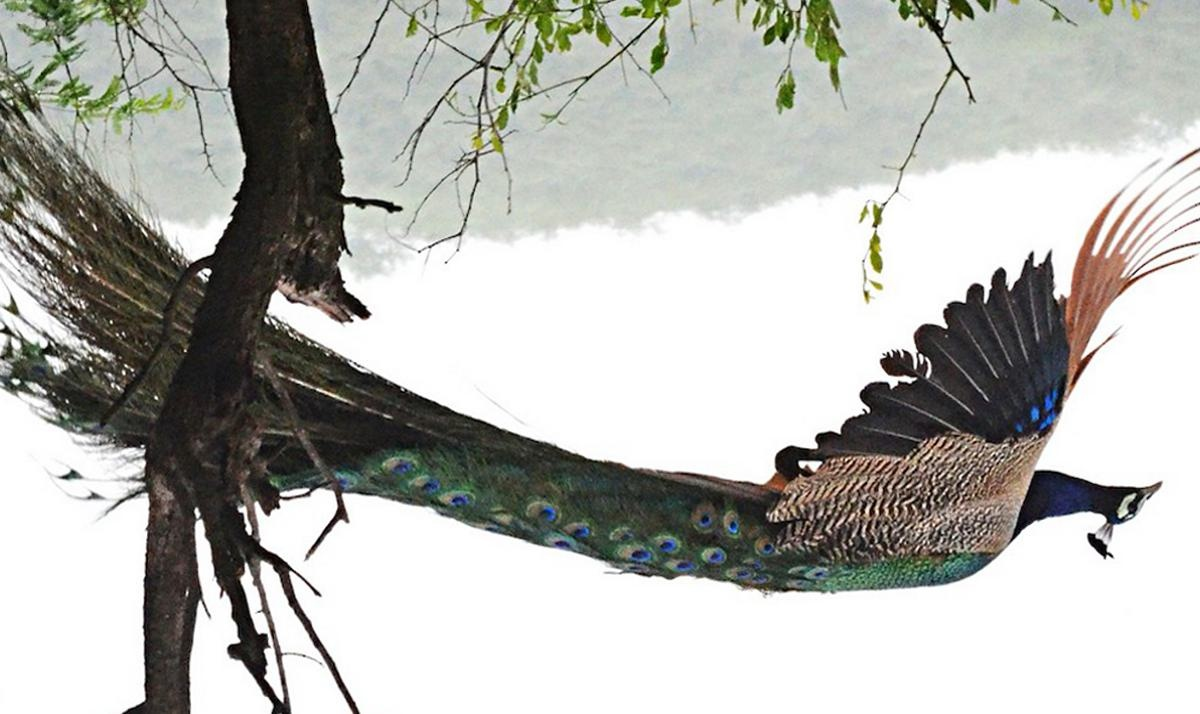peacock: (57, 223, 1175, 625)
